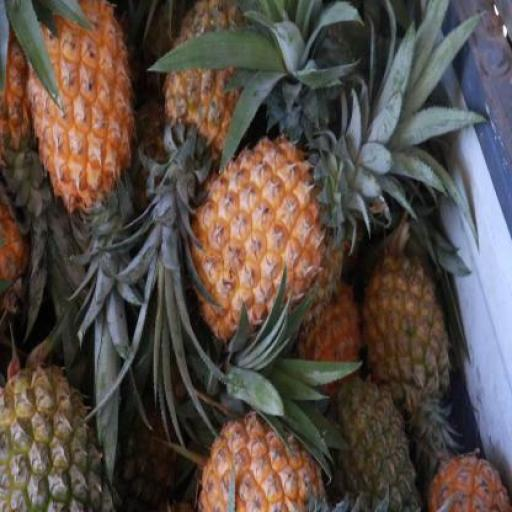------------------------------: (0, 362, 112, 512), (365, 247, 453, 420)
Pineapple - v8 v1: (184, 142, 333, 352), (22, 1, 134, 212), (197, 416, 316, 512)
